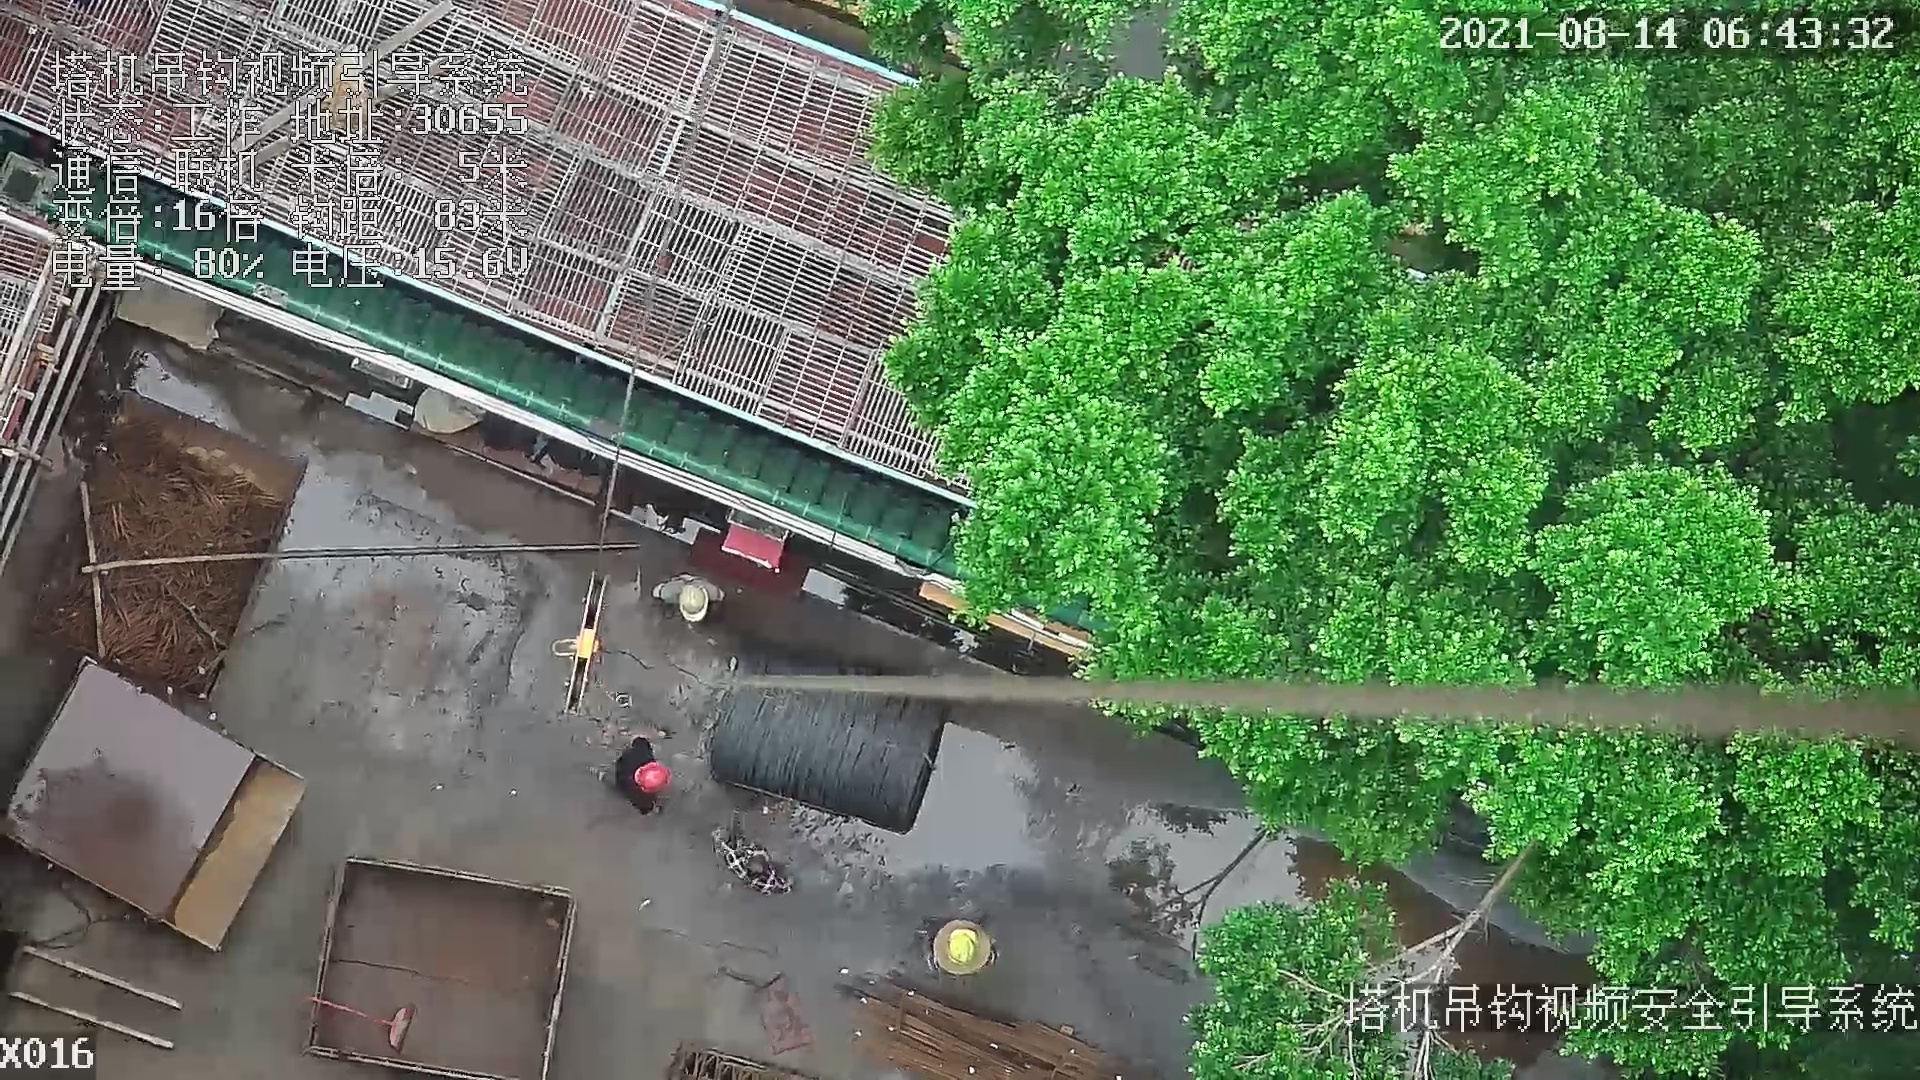helmet: (634, 758, 673, 795), (677, 583, 711, 619), (948, 927, 977, 965)
person: (711, 808, 795, 919), (591, 737, 677, 814), (915, 918, 1004, 987), (650, 562, 729, 626)
